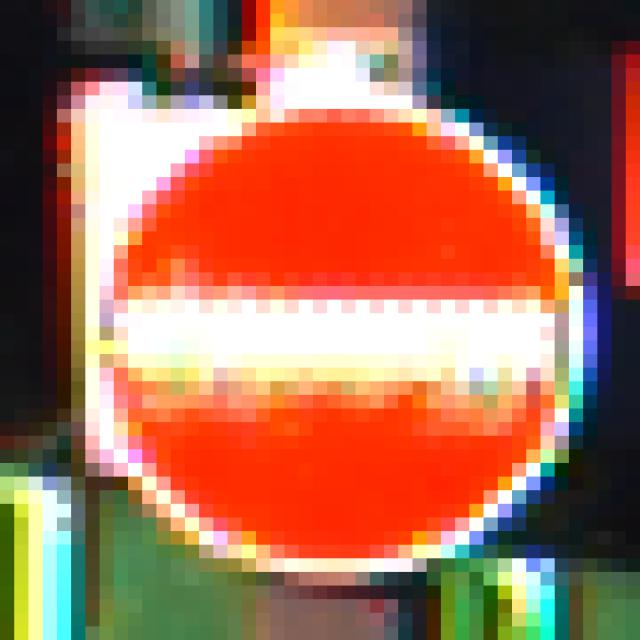No Entry: (72, 83, 570, 573)
